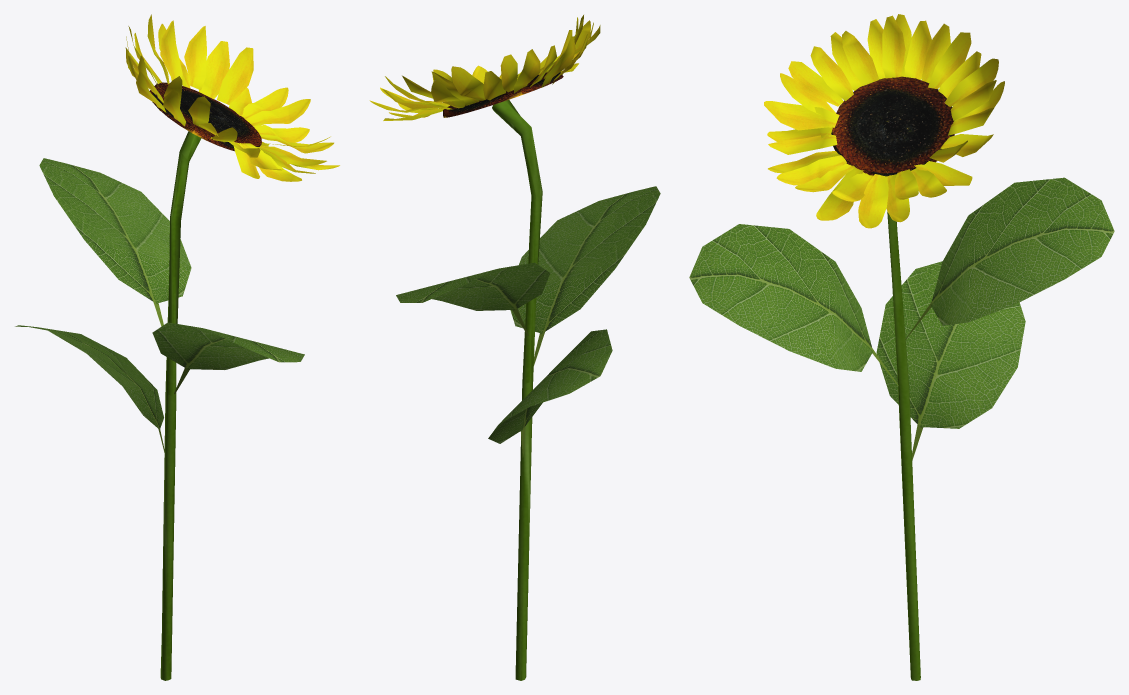
Rendered from Sunflower_Sky_Background_0418.fbx.
3 views of the same model, side by side, from view 1: azimuth 30°, elevation 25°; view 2: azimuth 150°, elevation 25°; view 3: azimuth 270°, elevation 25° (orthographic).
Visible parts, largest first — view 1: Leaf3, Stalk, Leaf1, Leaf2, Bud, Plane757, Plane756, Plane755, Plane738, Plane743, Plane725, Plane726 (+1 smaller); view 2: Leaf1, Stalk, Leaf3, Leaf2, Bud, Plane771, Plane769, Plane753, Plane772, Plane741, Plane770; view 3: Leaf3, Leaf1, Leaf2, Bud, Stalk, Plane1013, Plane727, Plane767, Plane753, Plane766, Plane734, Plane765 (+17 smaller).
Part boxes in pixels (x1=…): Leaf3: x1=39, y1=158, x2=191, y2=326; Stalk: x1=160, y1=131, x2=201, y2=680; Leaf1: x1=152, y1=322, x2=304, y2=394; Leaf2: x1=15, y1=325, x2=164, y2=452; Bud: x1=149, y1=82, x2=261, y2=151; Plane757: x1=217, y1=47, x2=253, y2=104; Plane756: x1=198, y1=41, x2=229, y2=99; Plane755: x1=184, y1=26, x2=206, y2=90; Plane738: x1=245, y1=99, x2=310, y2=125; Plane743: x1=160, y1=20, x2=182, y2=80; Plane725: x1=241, y1=87, x2=288, y2=118; Plane726: x1=253, y1=125, x2=309, y2=142; Leaf1: x1=510, y1=186, x2=660, y2=365; Stalk: x1=492, y1=100, x2=542, y2=680; Leaf3: x1=396, y1=262, x2=550, y2=335; Leaf2: x1=488, y1=329, x2=612, y2=457; Bud: x1=443, y1=72, x2=563, y2=117; Plane771: x1=451, y1=66, x2=485, y2=100; Plane769: x1=514, y1=49, x2=540, y2=93; Plane753: x1=500, y1=54, x2=517, y2=92; Plane772: x1=431, y1=80, x2=465, y2=108; Plane741: x1=541, y1=36, x2=575, y2=87; Plane770: x1=483, y1=71, x2=505, y2=100; Leaf3: x1=905, y1=177, x2=1114, y2=339; Leaf1: x1=689, y1=224, x2=898, y2=385; Leaf2: x1=876, y1=261, x2=1025, y2=460; Bud: x1=831, y1=76, x2=954, y2=176; Stalk: x1=887, y1=212, x2=920, y2=680; Plane1013: x1=764, y1=101, x2=839, y2=130; Plane727: x1=858, y1=174, x2=888, y2=228; Plane767: x1=882, y1=15, x2=905, y2=78; Plane753: x1=928, y1=32, x2=971, y2=89; Plane766: x1=842, y1=31, x2=878, y2=85; Plane734: x1=788, y1=61, x2=843, y2=106; Plane765: x1=810, y1=46, x2=853, y2=101.
Size of the model in its own units: 11.72 by 27.55 by 16.46.
